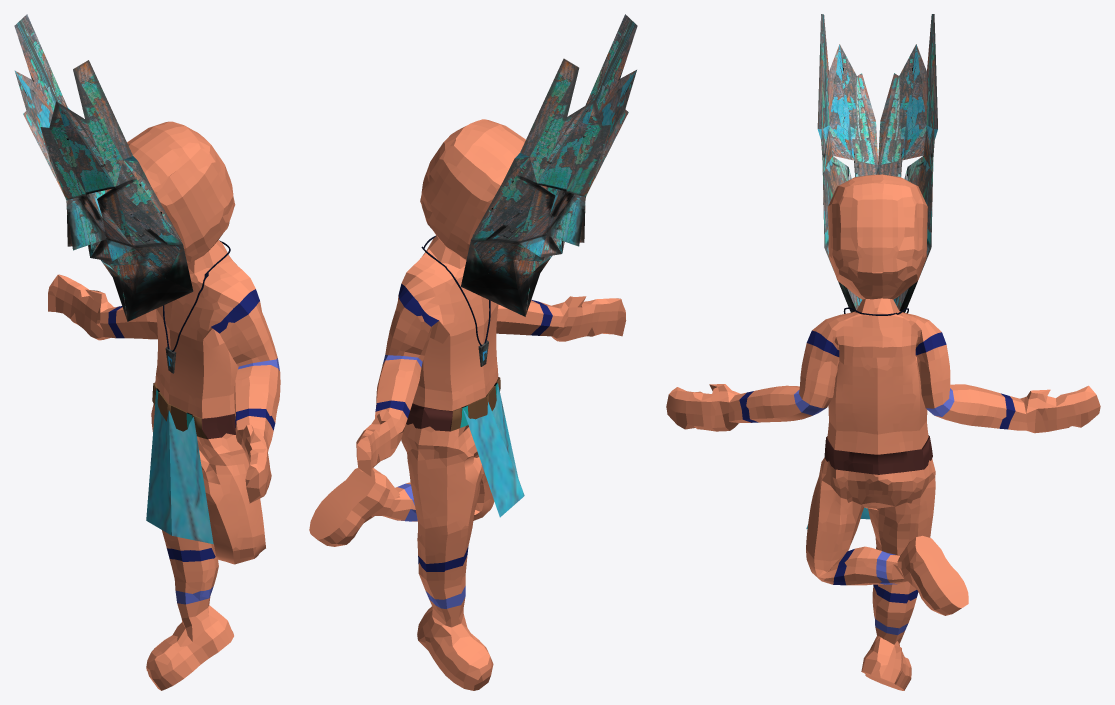
File: NPC_ShamanPose.obj
3 views of the same model, side by side, from view 1: azimuth 30°, elevation 25°; view 2: azimuth 150°, elevation 25°; view 3: azimuth 270°, elevation 25° (orthographic). The views are drawn at different scales.
Parts seen in each view (by area): view 1: Humanoide_Base_Humanoide_Base_Base_NPC__characterMedium_a403509, Cylinder.002_Cylinder.002_Material.001_Cylinder.002_Cylinder.00, Taparrabos_Plane.001_Taparrabos_Plane.001_Material.001_Taparrab; view 2: Humanoide_Base_Humanoide_Base_Base_NPC__characterMedium_a403509, Cylinder.002_Cylinder.002_Material.001_Cylinder.002_Cylinder.00, Taparrabos_Plane.001_Taparrabos_Plane.001_Material.001_Taparrab; view 3: Humanoide_Base_Humanoide_Base_Base_NPC__characterMedium_a403509, Cylinder.002_Cylinder.002_Material.001_Cylinder.002_Cylinder.00.
Boxes of the visible parts, x1,y1,x2,y2 form: Humanoide_Base_Humanoide_Base_Base_NPC__characterMedium_a403509: (48, 121, 280, 690); Cylinder.002_Cylinder.002_Material.001_Cylinder.002_Cylinder.00: (14, 14, 193, 321); Taparrabos_Plane.001_Taparrabos_Plane.001_Material.001_Taparrab: (146, 390, 213, 544); Humanoide_Base_Humanoide_Base_Base_NPC__characterMedium_a403509: (309, 119, 626, 690); Cylinder.002_Cylinder.002_Material.001_Cylinder.002_Cylinder.00: (461, 14, 637, 316); Taparrabos_Plane.001_Taparrabos_Plane.001_Material.001_Taparrab: (463, 383, 524, 517); Humanoide_Base_Humanoide_Base_Base_NPC__characterMedium_a403509: (666, 174, 1100, 690); Cylinder.002_Cylinder.002_Material.001_Cylinder.002_Cylinder.00: (817, 14, 937, 312).
Bounding box in the file's own units: 20.43 × 48.78 × 30.67.
Materials: 4 (3 with a texture image).
